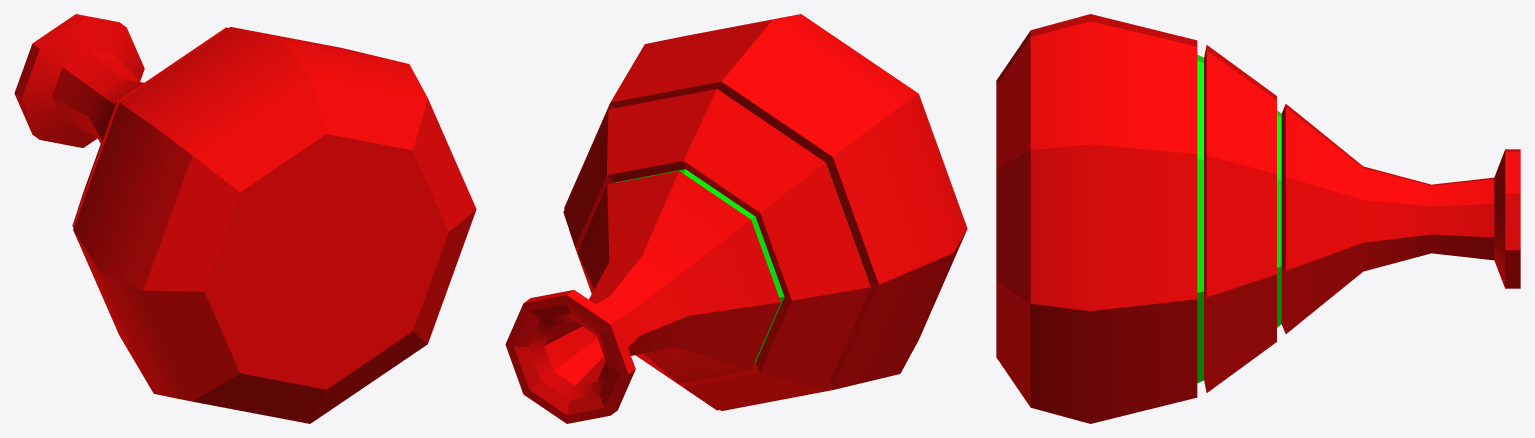
File: Vase_02.fbx
3 renders of one model, left to right at view 1: azimuth 30°, elevation 25°; view 2: azimuth 150°, elevation 25°; view 3: azimuth 270°, elevation 25°, orthographic. The views are drawn at different scales.
Parts seen in each view (by area): view 1: Vase_02; view 2: Vase_02; view 3: Vase_02.
Part boxes in pixels (left/top/right/bottom): Vase_02: left=14, top=14, right=476, bottom=423; Vase_02: left=505, top=14, right=967, bottom=423; Vase_02: left=996, top=14, right=1520, bottom=423.
Size of the model in its own units: 54.33 by 54.33 by 65.26.
